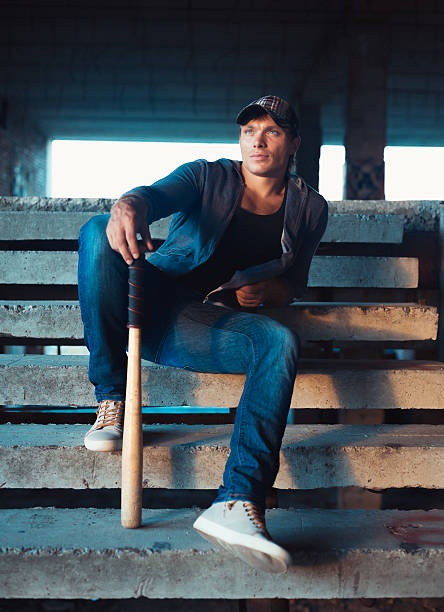bita: (121, 223, 149, 527)
